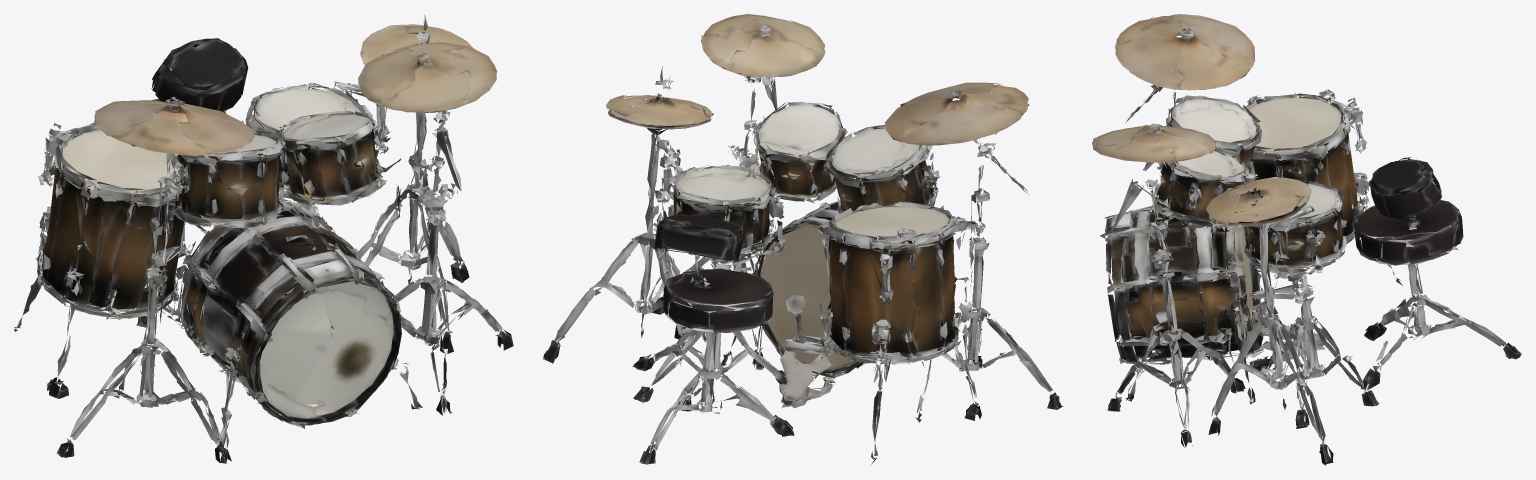
The model's file is drums.glb.
The picture shows the model from 3 angles, left to right: view 1: azimuth 30°, elevation 25°; view 2: azimuth 150°, elevation 25°; view 3: azimuth 270°, elevation 25°; orthographic projection. The views are drawn at different scales.
Visible parts, largest first — view 1: Mesh_0; view 2: Mesh_0; view 3: Mesh_0.
Boxes of the visible parts, x1=… form: Mesh_0: x1=14, y1=14, x2=513, y2=463; Mesh_0: x1=543, y1=14, x2=1063, y2=465; Mesh_0: x1=1092, y1=14, x2=1521, y2=465.
Size of the model in its own units: 1.8 by 1.19 by 1.6.
Materials: 1 (1 with a texture image).
